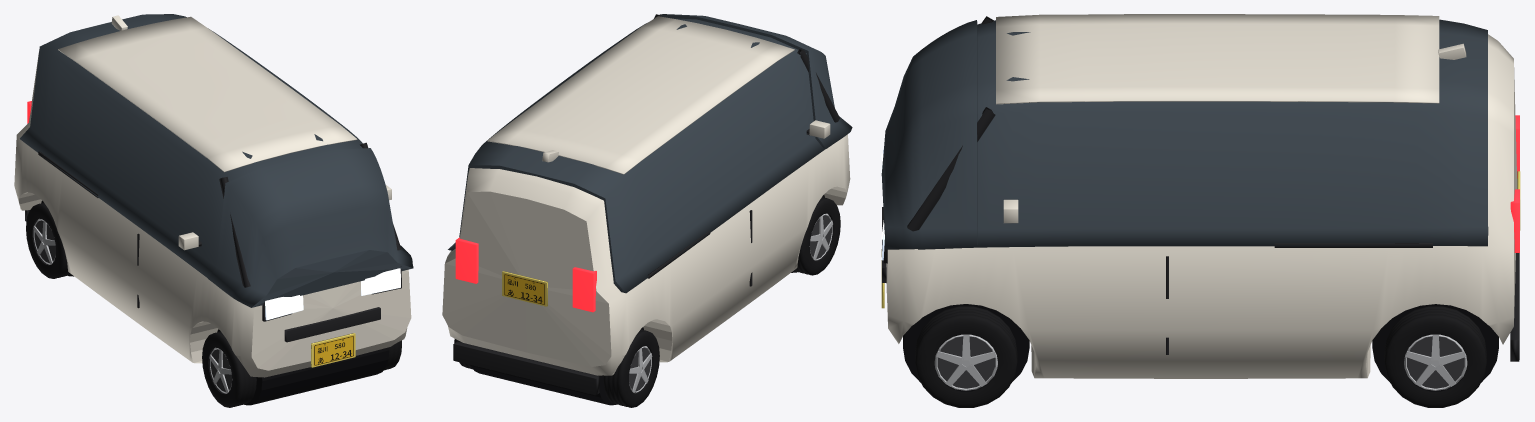
The model's file is car_kei_v1.glb.
3 renders of one model, left to right at view 1: azimuth 30°, elevation 25°; view 2: azimuth 150°, elevation 25°; view 3: azimuth 270°, elevation 25°, orthographic. The views are drawn at different scales.
Visible parts, largest first — view 1: Body, GlassCanopy, Windshield, RoofPanel, Wheelhouse, Wheel_FL_tire, Wheel_RL_tire, Grille, PlateFace, HeadLens.001, HeadLens, APillar (+2 smaller); view 2: Body, GlassCanopy, RoofPanel, RearValance, Windshield, Wheel_RL_tire, Wheel_FL_tire, Wheelhouse.001, TailLight, TailLight.001, PlateFace.001, Wheel_RL_barrel (+2 smaller); view 3: GlassCanopy, Body, RoofPanel, Windshield, Wheel_FR_tire, Wheel_RR_tire, Wheelhouse, Wheelhouse.001, Wheel_FR_barrel, Wheel_RR_barrel, APillar.001, SlideRail.001 (+1 smaller).
Boxes of the visible parts, box(x1,y1,x2,y2) form: Body: box(14, 51, 411, 377); GlassCanopy: box(20, 14, 362, 277); Windshield: box(208, 148, 413, 307); RoofPanel: box(58, 16, 357, 172); Wheelhouse: box(217, 329, 389, 405); Wheel_FL_tire: box(202, 331, 256, 407); Wheel_RL_tire: box(26, 202, 70, 278); Grille: box(284, 307, 380, 342); PlateFace: box(313, 335, 354, 366); HeadLens.001: box(361, 268, 400, 295); HeadLens: box(265, 295, 303, 320); APillar: box(219, 177, 250, 287); Body: box(442, 134, 850, 375); GlassCanopy: box(448, 18, 825, 293); RoofPanel: box(487, 16, 794, 174); RearValance: box(453, 341, 599, 395); Windshield: box(659, 14, 852, 148); Wheel_RL_tire: box(603, 329, 659, 407); Wheel_FL_tire: box(794, 197, 840, 275); Wheelhouse.001: box(470, 327, 643, 405); TailLight: box(572, 267, 596, 312); TailLight.001: box(455, 237, 478, 283); PlateFace.001: box(503, 273, 545, 305); Wheel_RL_barrel: box(629, 347, 650, 391); GlassCanopy: box(918, 19, 1488, 249); Body: box(886, 34, 1517, 378); RoofPanel: box(996, 14, 1439, 104); Windshield: box(881, 20, 977, 249); Wheel_FR_tire: box(915, 306, 1017, 407); Wheel_RR_tire: box(1384, 306, 1486, 407); Wheelhouse: box(903, 304, 1029, 391); Wheelhouse.001: box(1372, 304, 1498, 391); Wheel_FR_barrel: box(937, 336, 994, 388); Wheel_RR_barrel: box(1407, 336, 1464, 388); APillar.001: box(907, 107, 995, 231); SlideRail.001: box(1274, 243, 1432, 247).
Size of the model in its own units: 1.72 by 1.85 by 3.43.
Materials: 13 (1 with a texture image).
